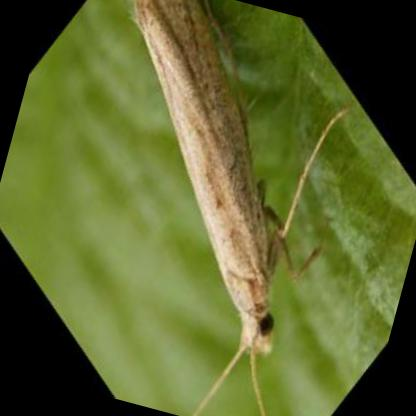plutella: (136, 0, 313, 355)
